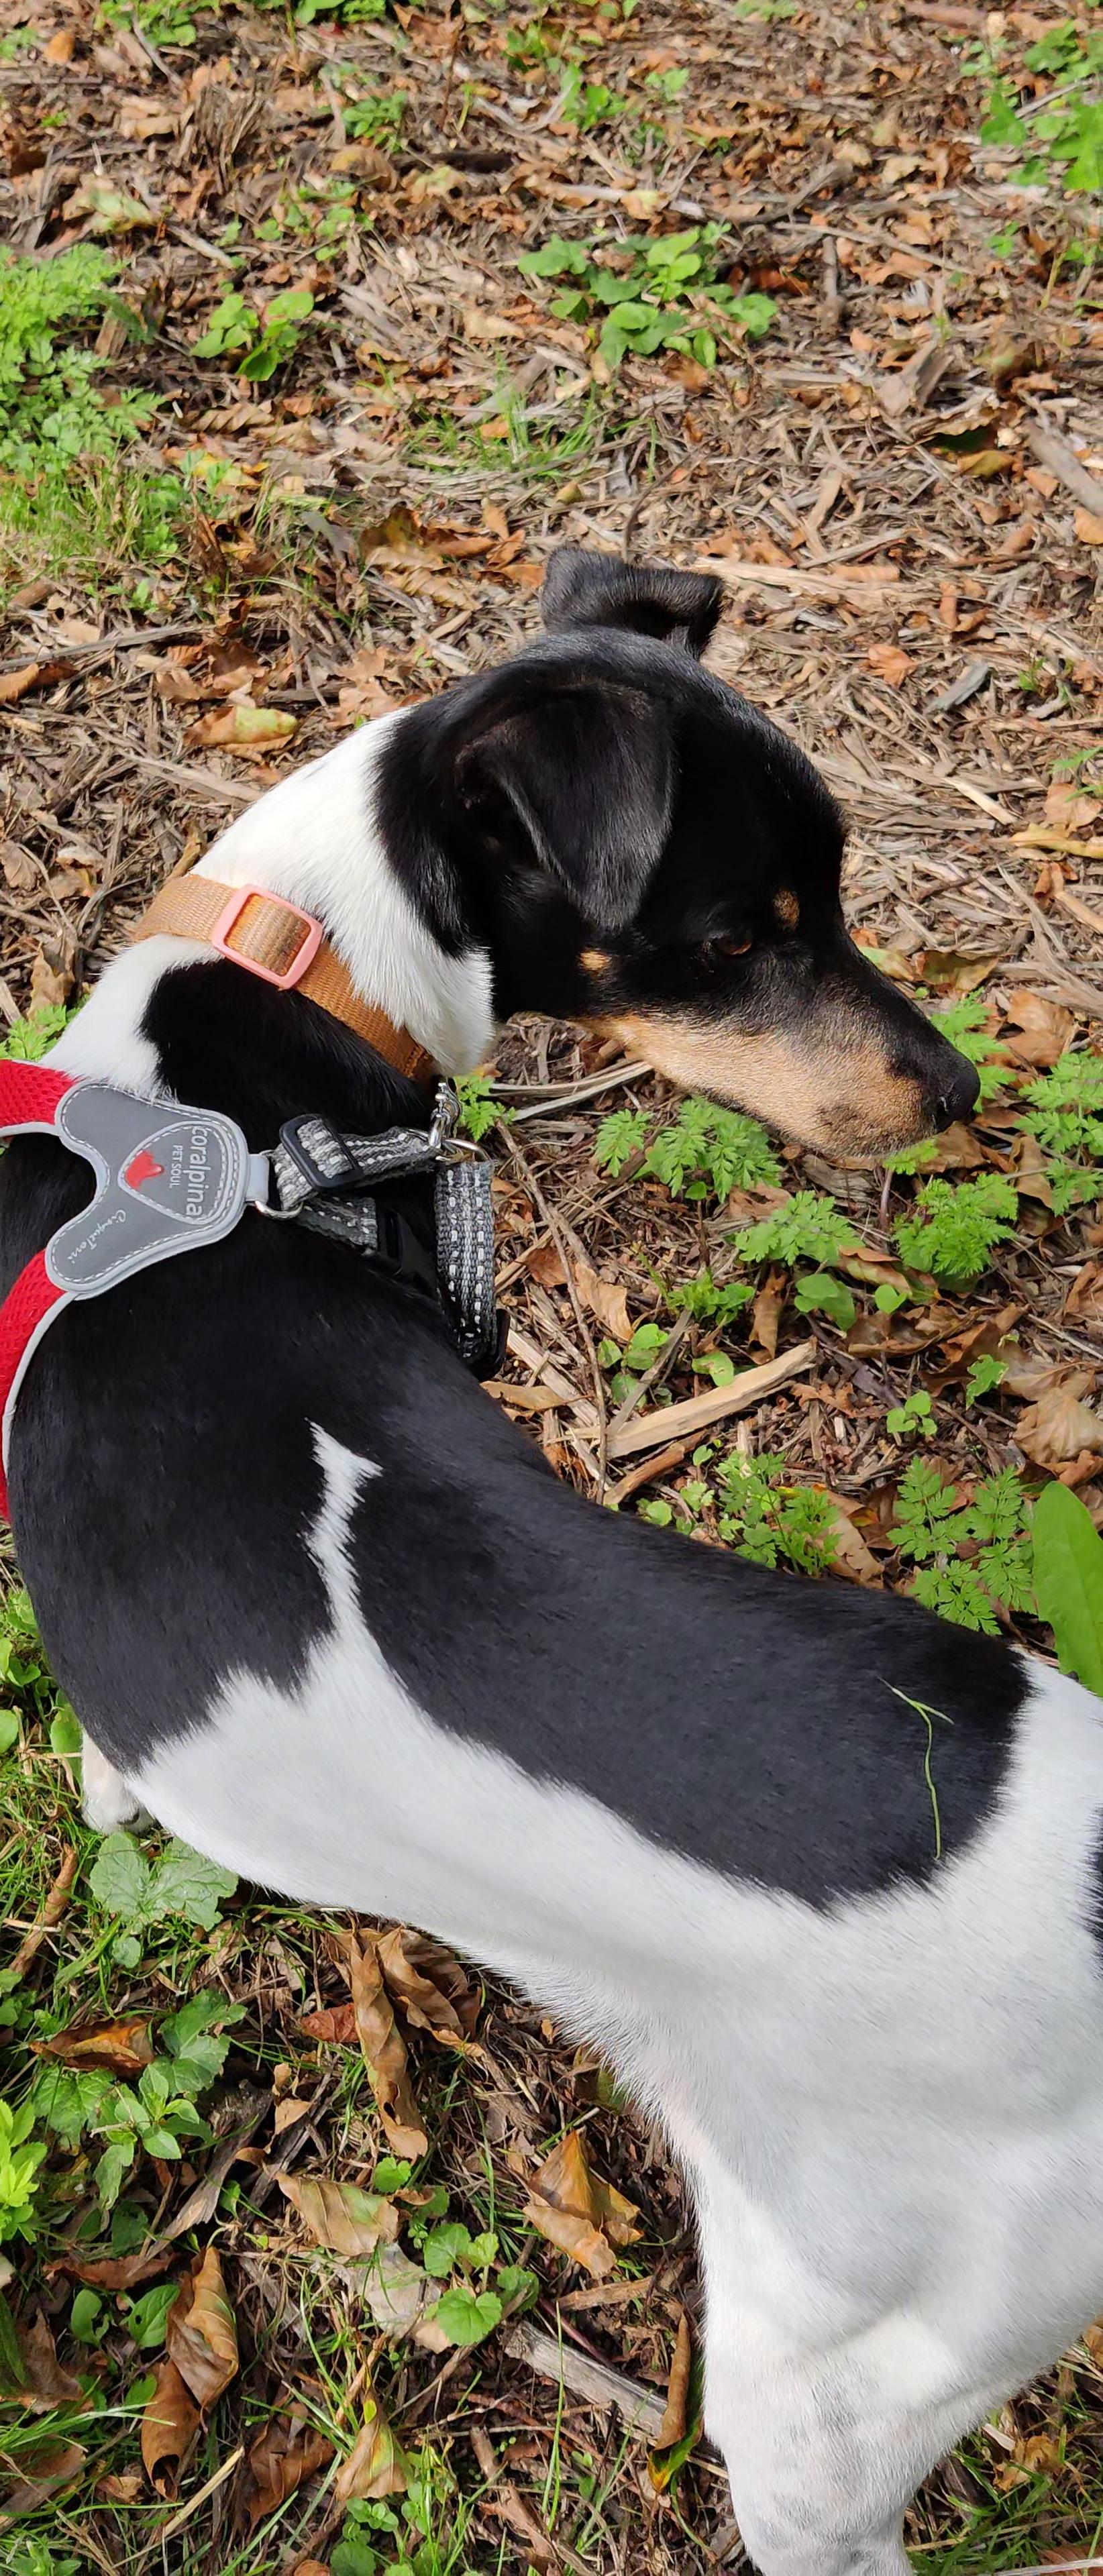Dog: (0, 544, 1103, 2576)
